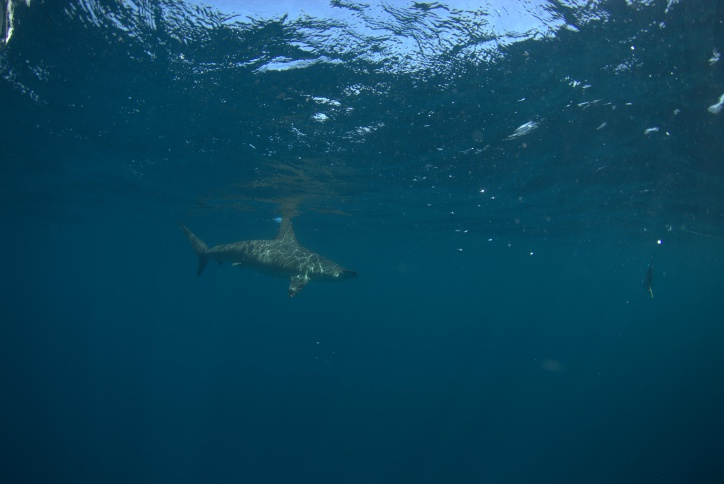Hammer: (166, 194, 388, 315)
